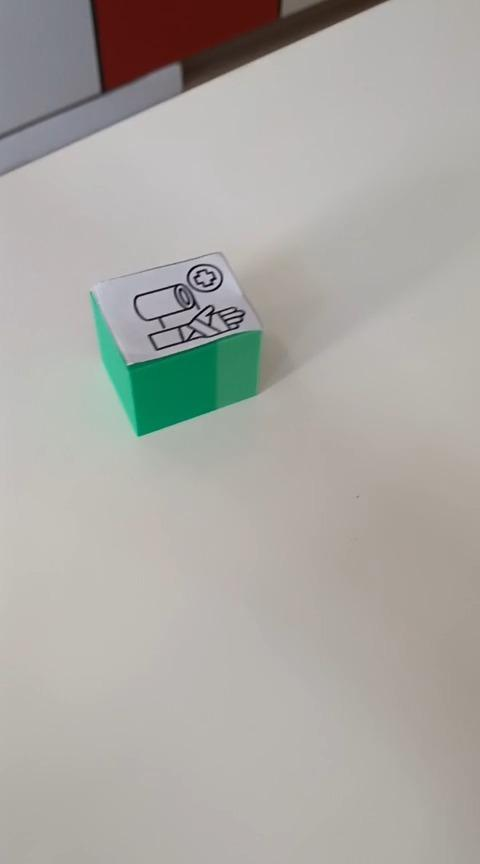Bandages: (88, 249, 264, 437)
